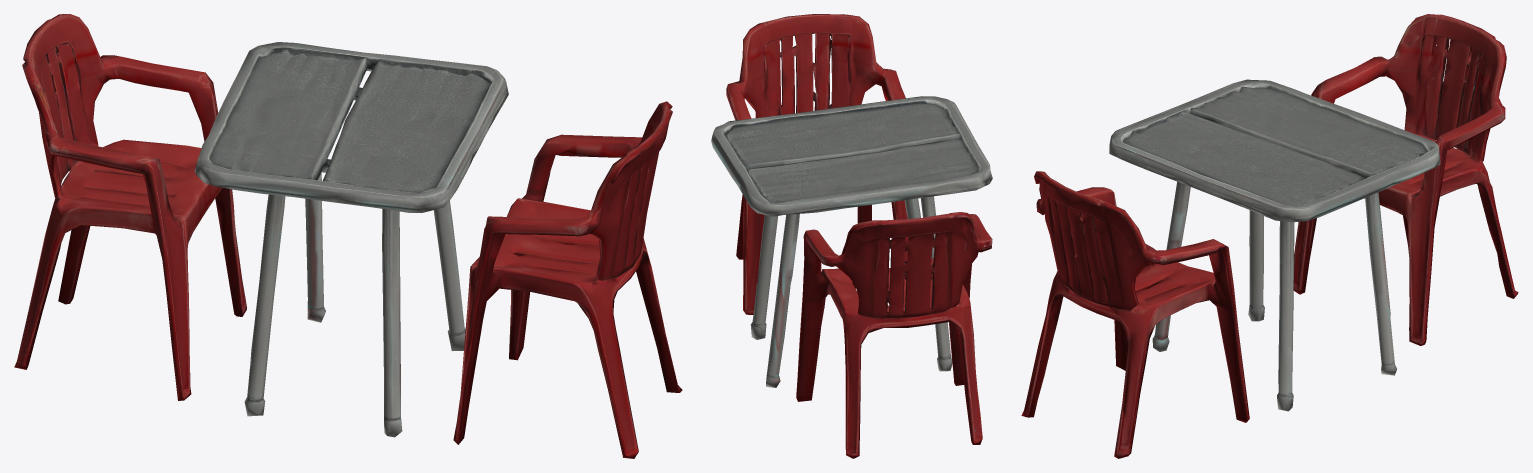
Rendered from mesa.glb.
3 views of the same model, side by side, from view 1: azimuth 30°, elevation 25°; view 2: azimuth 150°, elevation 25°; view 3: azimuth 270°, elevation 25° (orthographic). The views are drawn at different scales.
Visible parts, largest first — view 1: tripo_node_fe565ae8-d646-4e84-b8fe-ae8bbc3d5c97; view 2: tripo_node_fe565ae8-d646-4e84-b8fe-ae8bbc3d5c97; view 3: tripo_node_fe565ae8-d646-4e84-b8fe-ae8bbc3d5c97.
Boxes of the visible parts, x1,y1,x2,y2 form: tripo_node_fe565ae8-d646-4e84-b8fe-ae8bbc3d5c97: (14,14,682,458); tripo_node_fe565ae8-d646-4e84-b8fe-ae8bbc3d5c97: (711,14,992,458); tripo_node_fe565ae8-d646-4e84-b8fe-ae8bbc3d5c97: (1021,14,1518,458).
Bounding box in the file's own units: 0.9306 × 0.5612 × 0.9827.
Materials: 1 (1 with a texture image).
